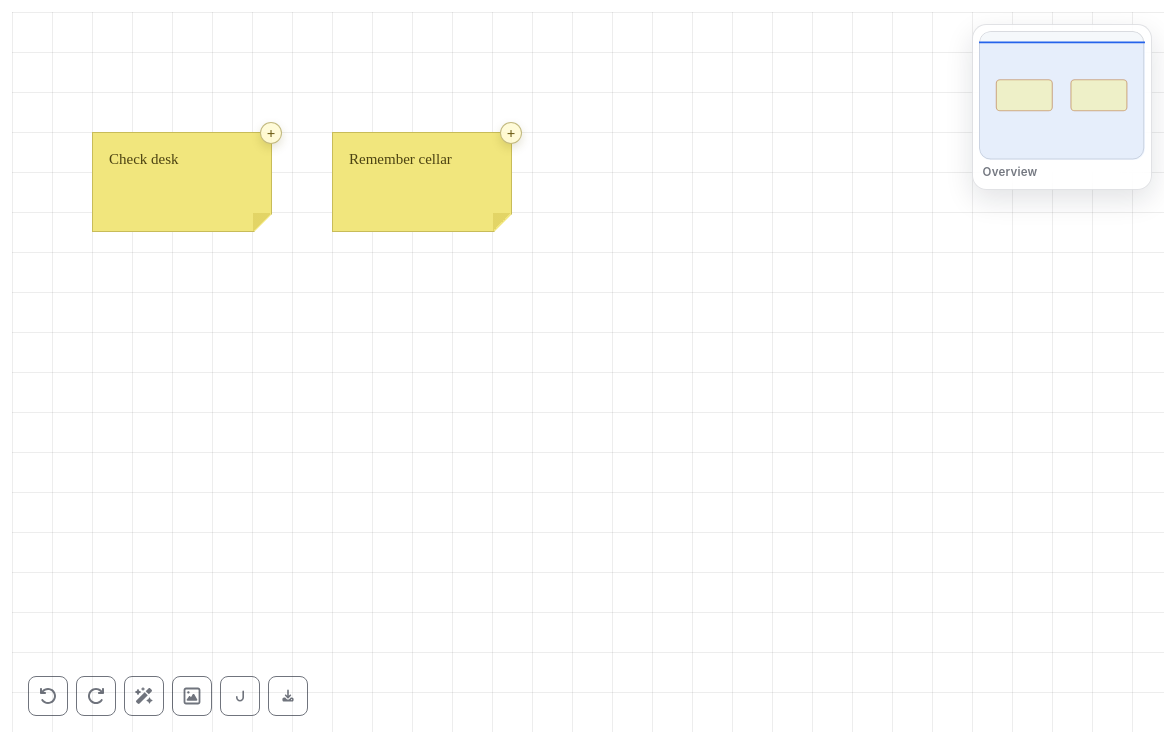
Scenario: MapCanvas › map panning › selects sticky notes live as they enter the marquee selection region
The image size is (1176, 732).
Press the mouse on the element with test id "map-canvas" at (588, 372), box x1=12 y1=12 x2=1164 y2=731
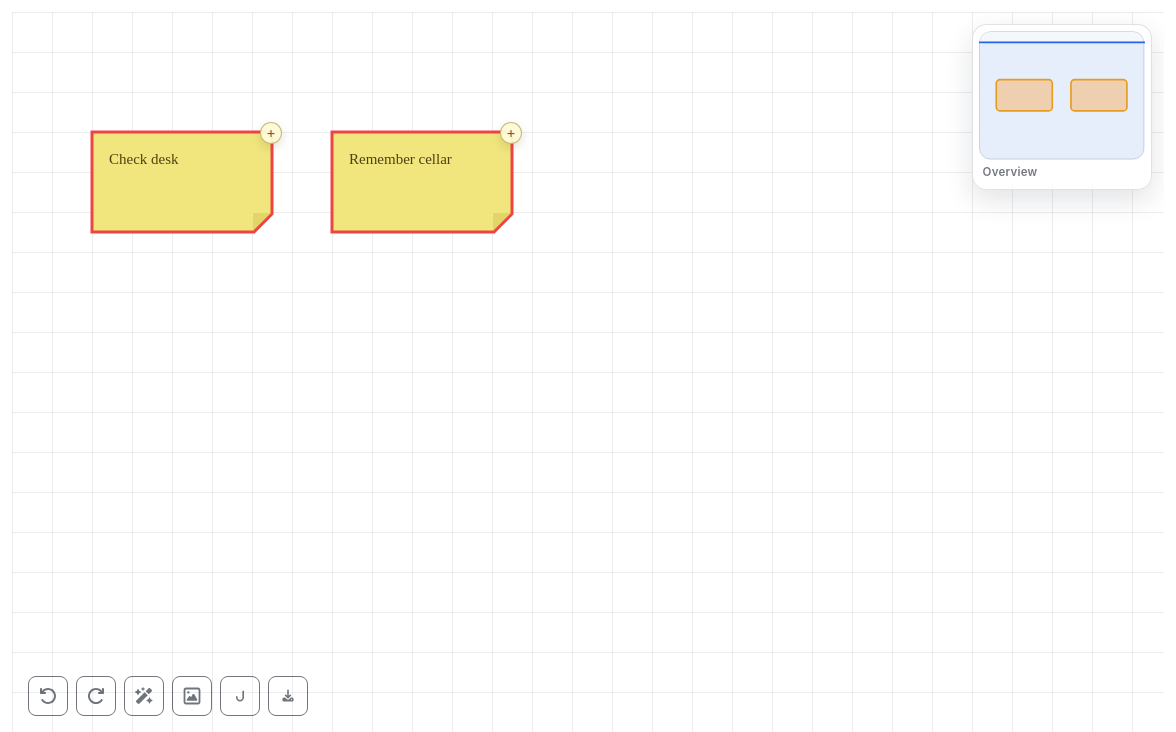
Now the icon with test id "sticky-note-selection-outline" next to "Check desk" is shown, box x1=88 y1=128 x2=276 y2=236
